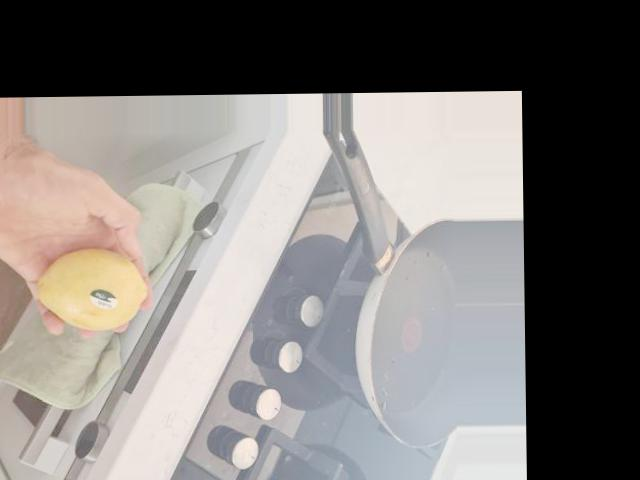lemon: (33, 251, 146, 327)
